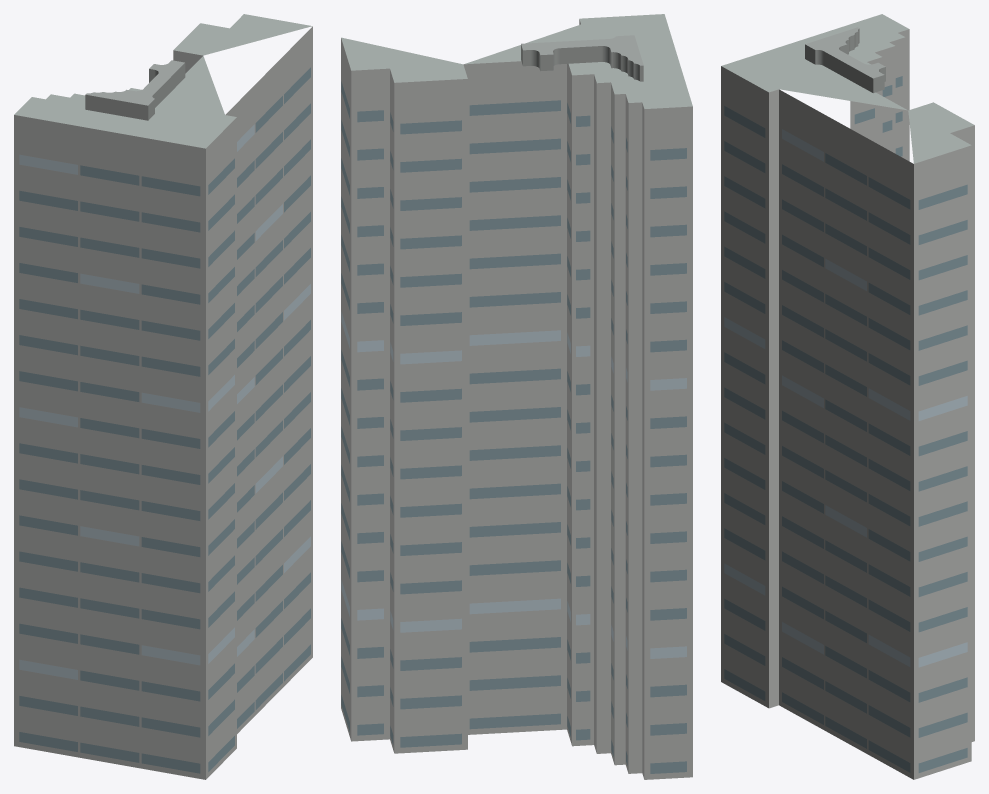
Rendered from fallback-gaepo-raemian-forest-114.glb.
3 views of the same model, side by side, from view 1: azimuth 30°, elevation 25°; view 2: azimuth 150°, elevation 25°; view 3: azimuth 270°, elevation 25° (orthographic). The views are drawn at different scales.
Visible parts, largest first — view 1: fallback-gaepo-raemian-forest-114; view 2: fallback-gaepo-raemian-forest-114; view 3: fallback-gaepo-raemian-forest-114.
Boxes of the visible parts, left/top/right/bottom form: fallback-gaepo-raemian-forest-114: left=14, top=14, right=312, bottom=779; fallback-gaepo-raemian-forest-114: left=341, top=14, right=692, bottom=779; fallback-gaepo-raemian-forest-114: left=721, top=14, right=974, bottom=779.
Size of the model in its own units: 52.53 by 103 by 37.56.
